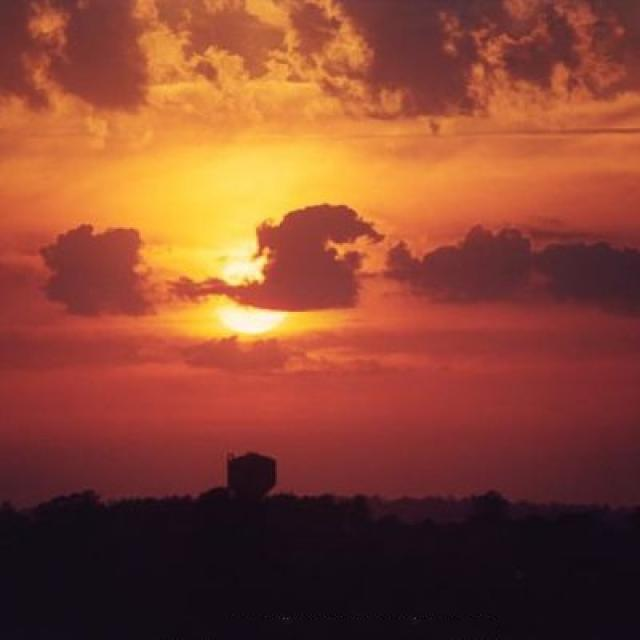As: (1, 49, 640, 427)
